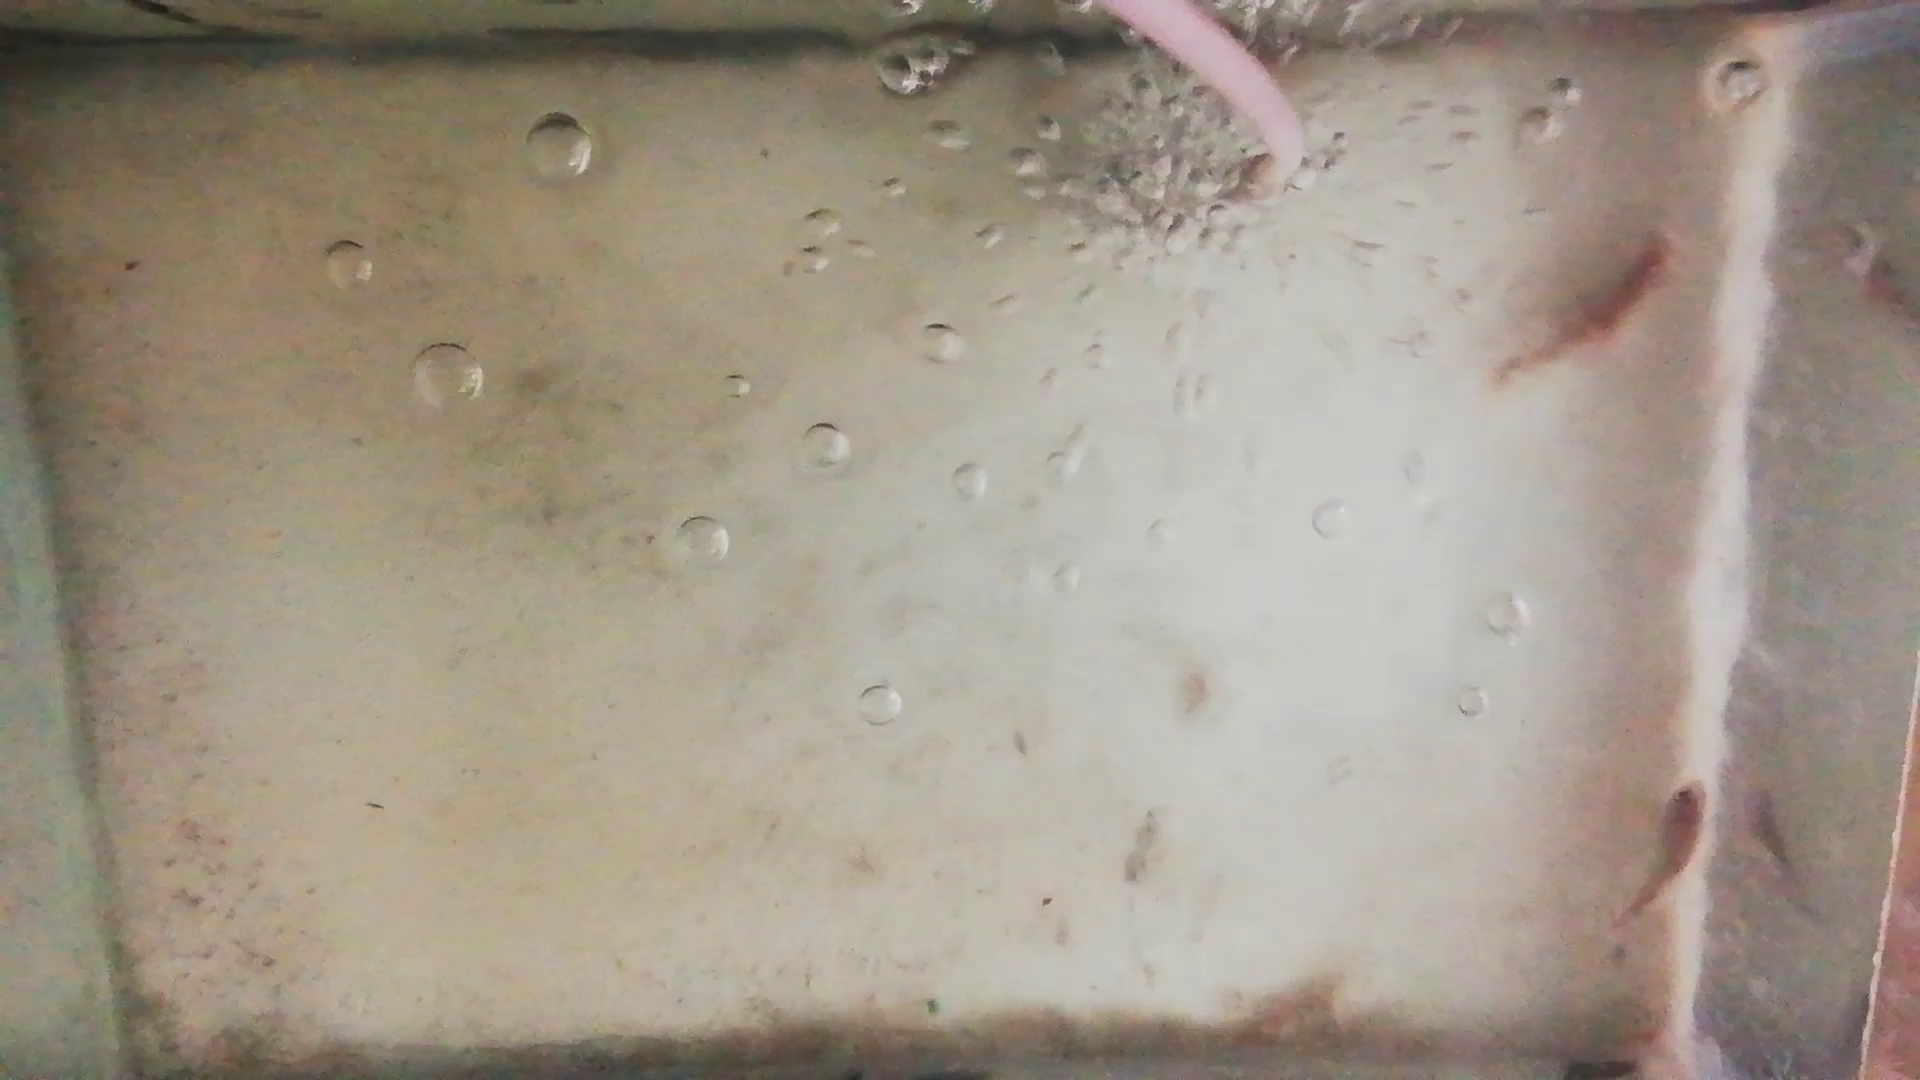fish: (1501, 229, 1675, 376), (1625, 781, 1708, 930)
